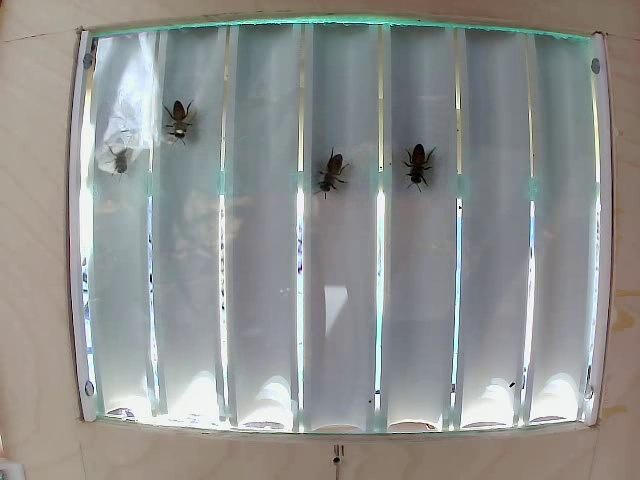bee: (317, 143, 350, 203), (107, 130, 142, 181), (167, 100, 201, 145), (402, 134, 430, 188)
